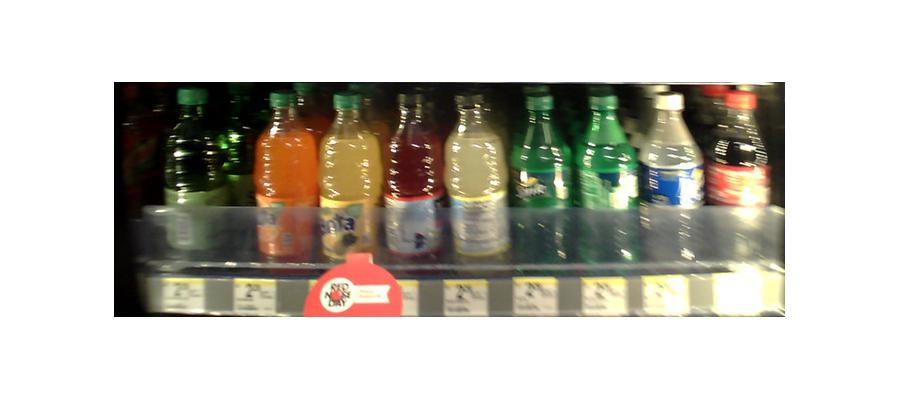bottle: (253, 85, 318, 267), (703, 89, 768, 265), (384, 85, 444, 274), (576, 86, 637, 270), (448, 88, 509, 270), (640, 88, 701, 268), (320, 93, 382, 264), (512, 87, 571, 265), (161, 94, 222, 259)
